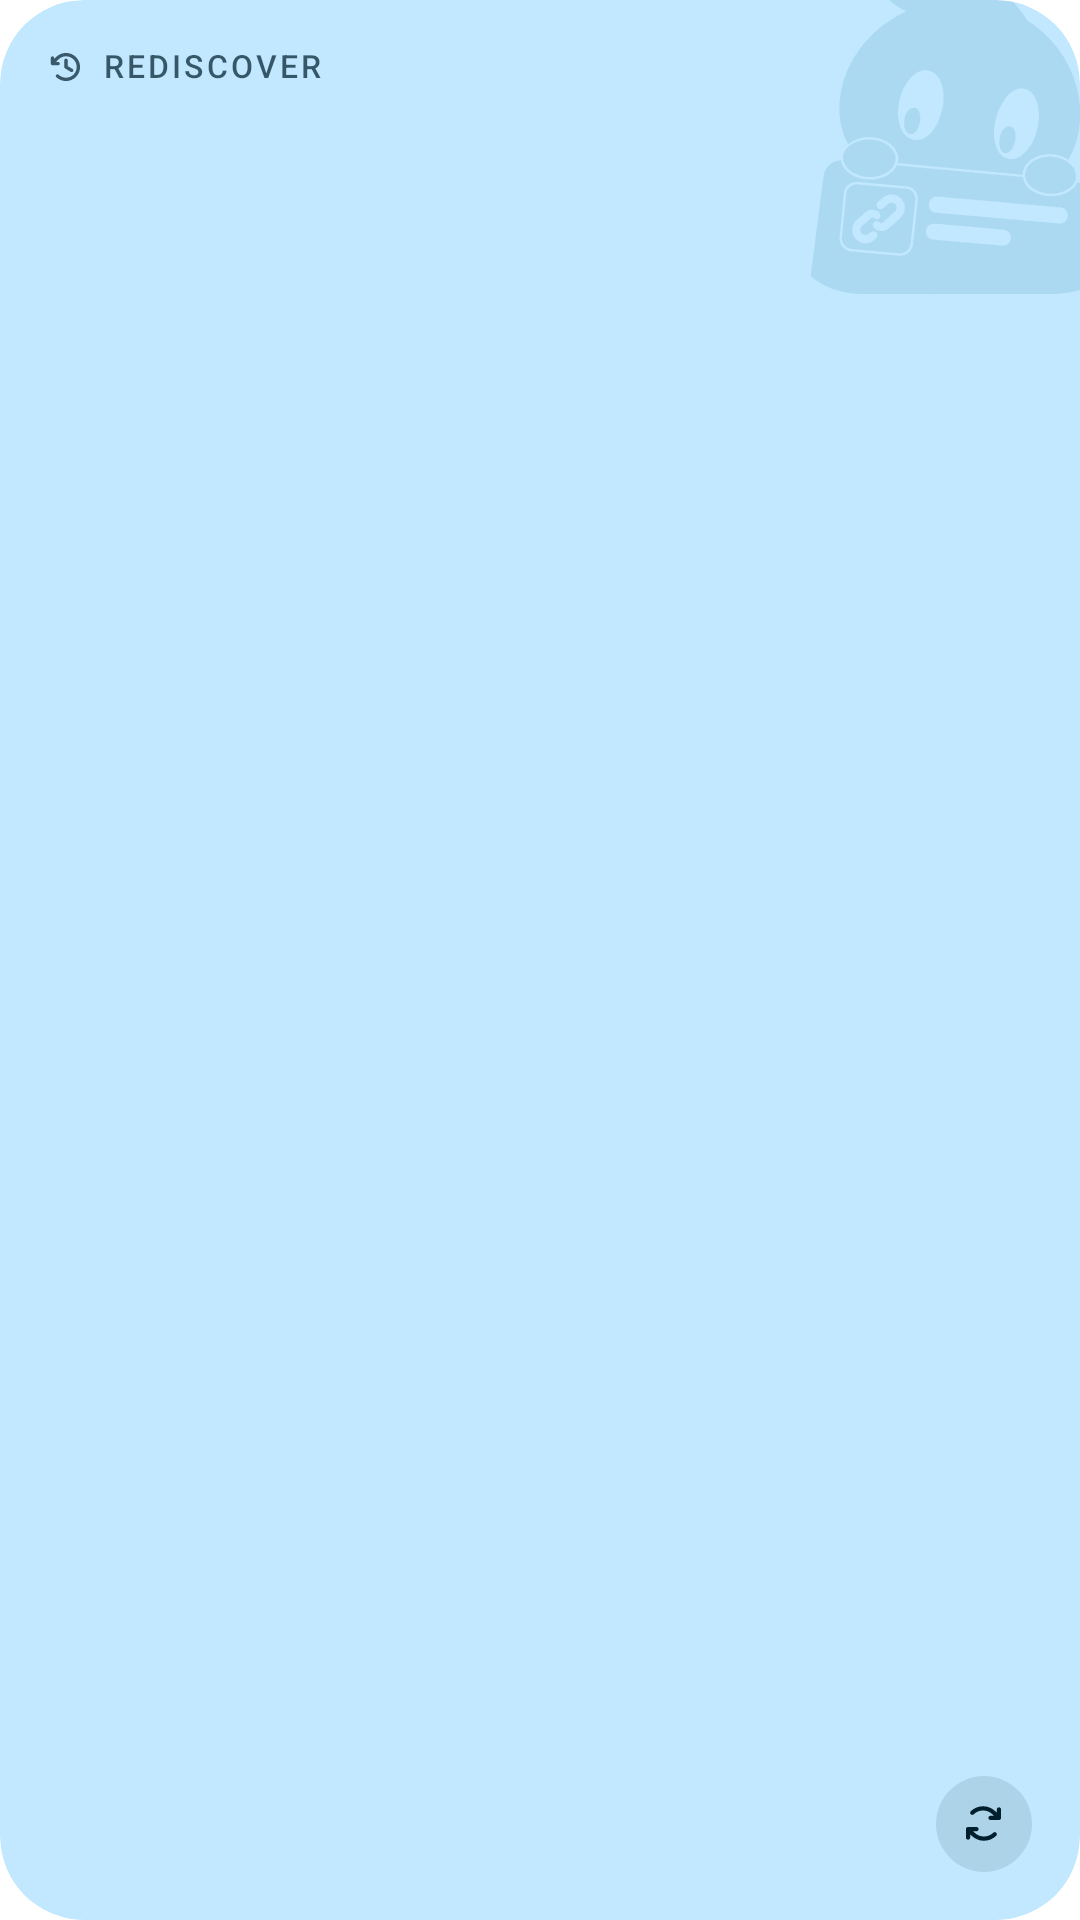

Point at icon controls on the screen. Image size 1080w x 1920h, points as (x=x, y=y).
widget rewind: (x=65, y=67)
